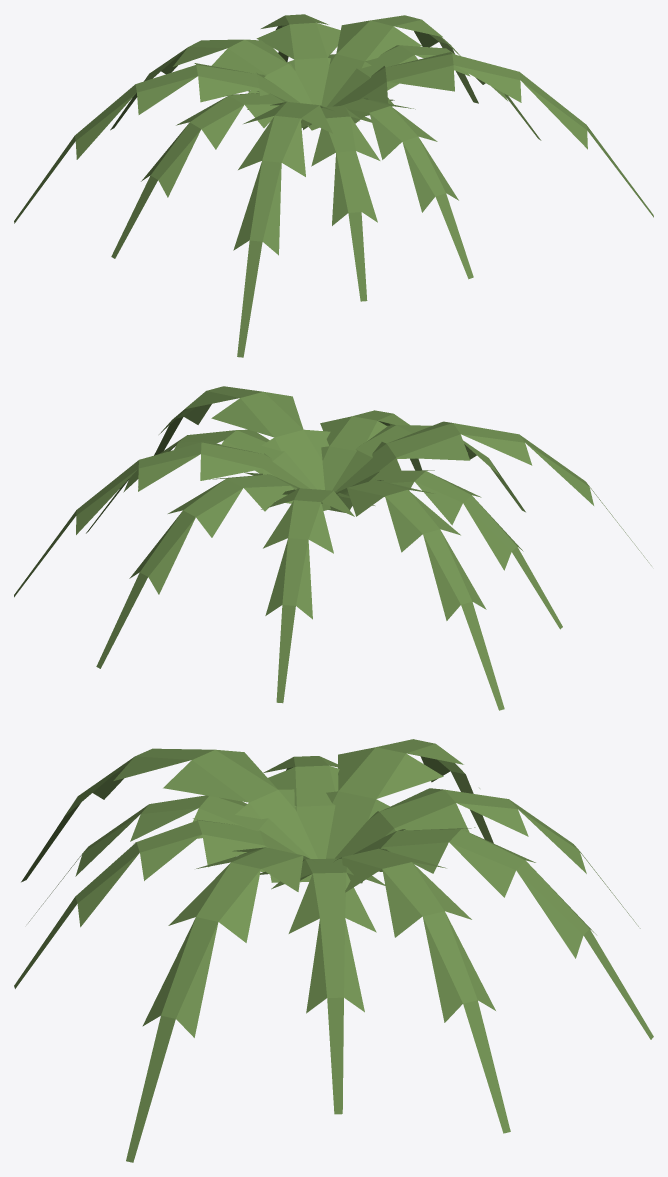
File: fern_2.glb
3 renders of one model, top to bottom at view 1: azimuth 30°, elevation 25°; view 2: azimuth 150°, elevation 25°; view 3: azimuth 270°, elevation 25°, orthographic. The views are drawn at different scales.
Visible parts, largest first — view 1: fern_9; view 2: fern_9; view 3: fern_9.
Part boxes in pixels (x1,y1,x2,y2): fern_9: (14,14,653,357); fern_9: (14,386,651,710); fern_9: (14,739,653,1162).
Bounding box in the file's own units: 1.71 × 0.5279 × 1.52.
